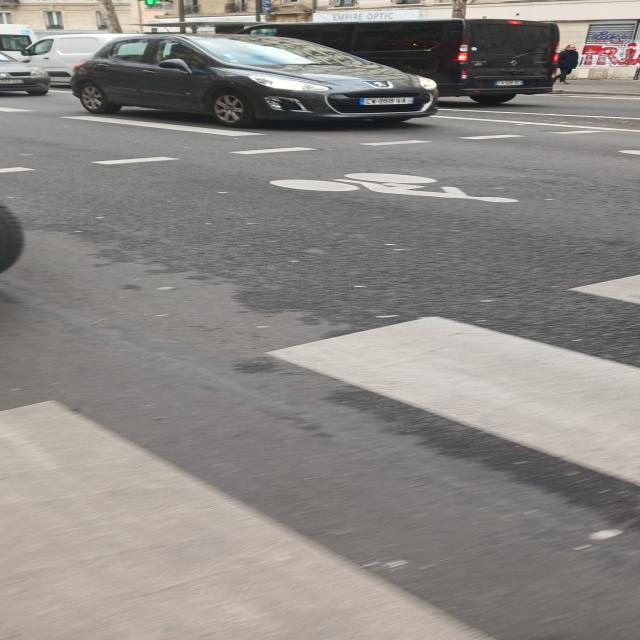Autre: (360, 92, 432, 106)
